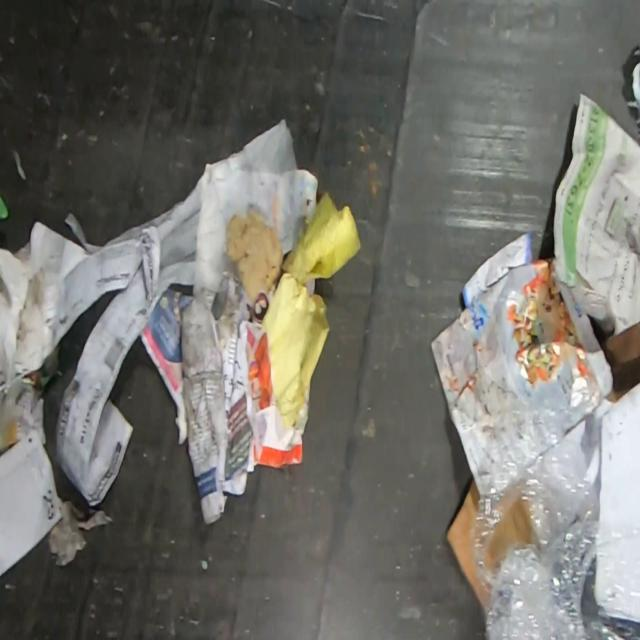cardboard: (445, 479, 483, 613), (606, 321, 640, 404)
soft_plastic: (469, 399, 639, 638)
